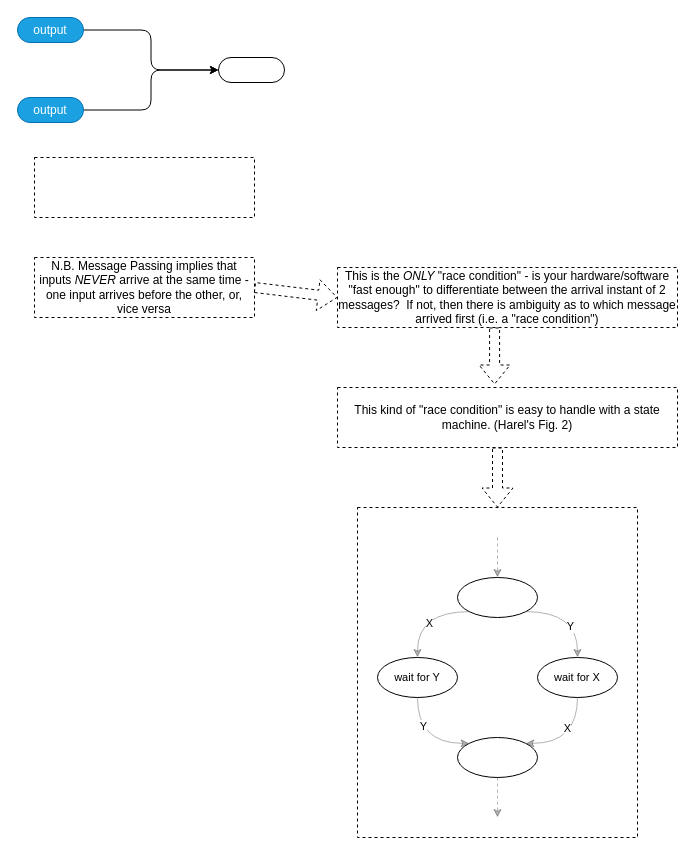
This 695x855 diagram has some shape labels left out. Here are the shapes that lost their labels. From the top down, the centre of each, then its label:
the point at 251,69: input
the point at 144,187: input comes from more than one place
the point at 497,597: wait for X and Y
the point at 497,757: got both, proceed
